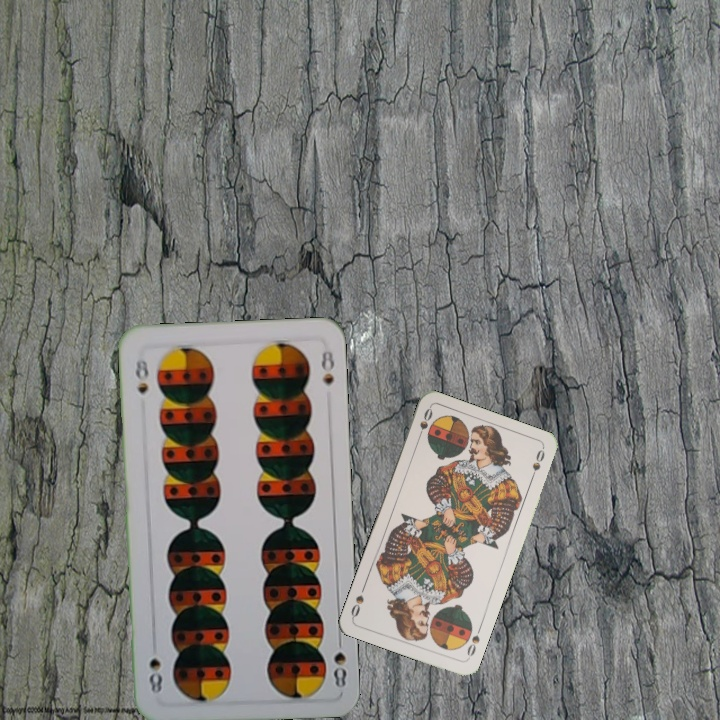S8: (330, 631, 349, 690), (131, 355, 152, 396)
SO: (413, 404, 435, 443), (463, 623, 484, 662)
